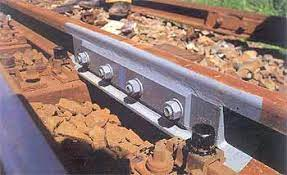insulated joint: (74, 41, 190, 127)
